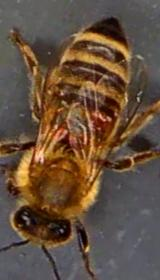varroa_mite: (84, 105, 113, 134)
